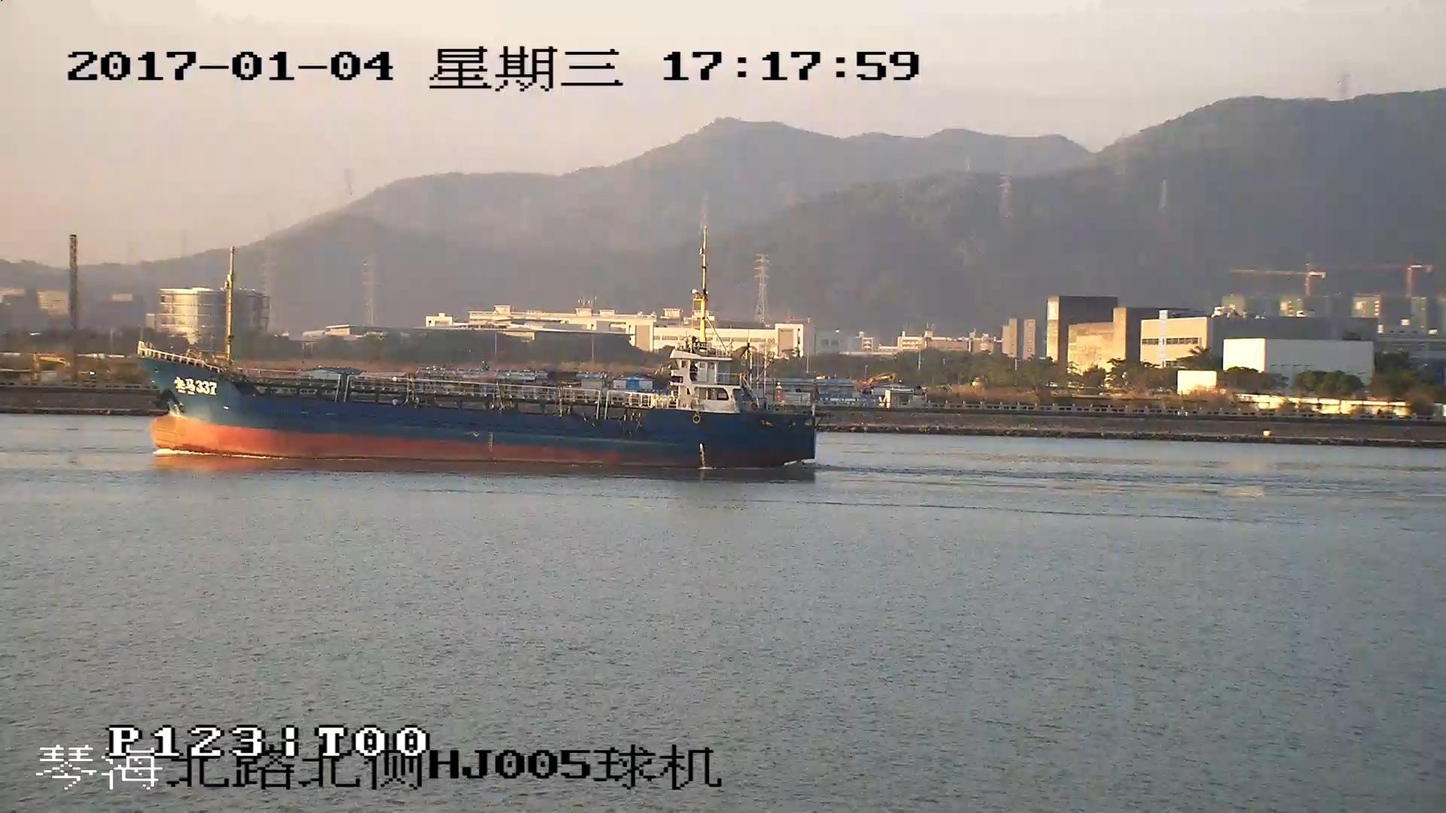general cargo ship: (133, 228, 818, 467)
